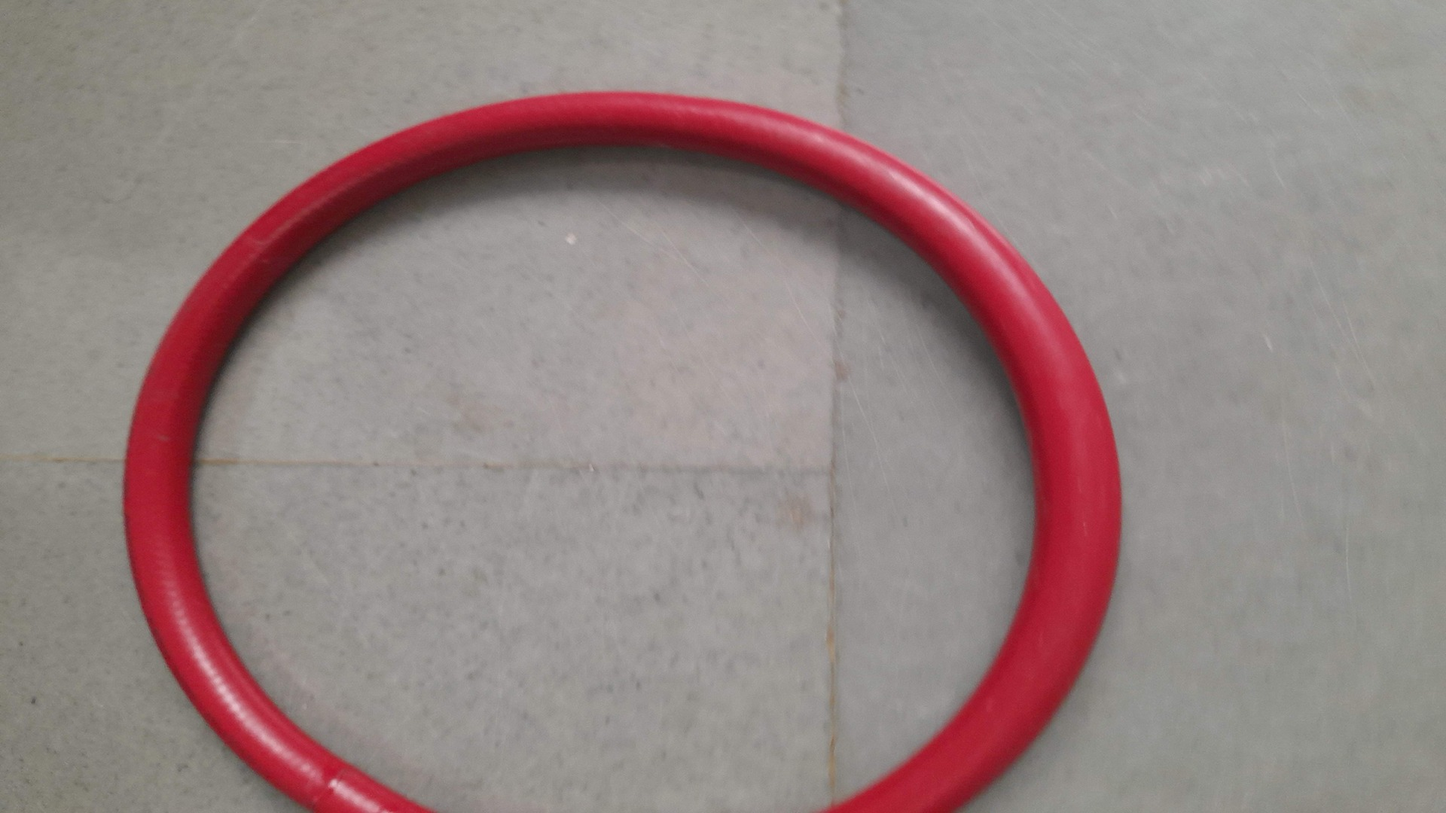Red ring: (121, 89, 1123, 813)
